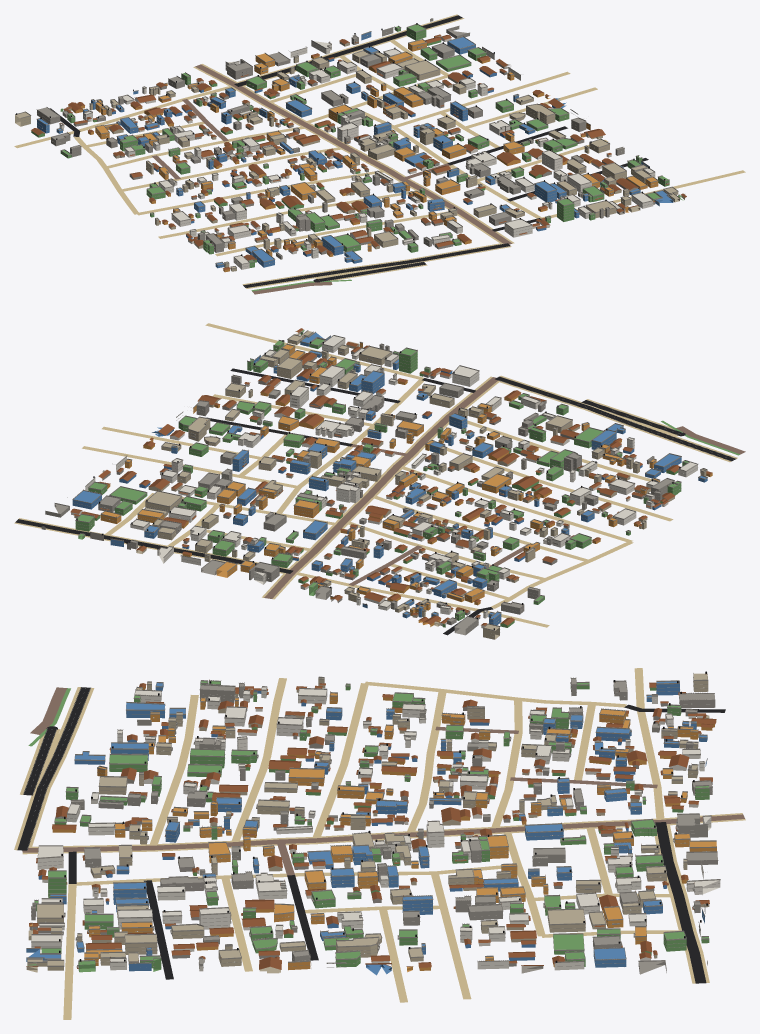
File: zone_t-5_0.glb
3 renders of one model, top to bottom at view 1: azimuth 30°, elevation 25°; view 2: azimuth 150°, elevation 25°; view 3: azimuth 270°, elevation 25°, orthographic. The views are drawn at different scales.
Parts seen in each view (by area): view 1: parapet_t-5_0, bld_peinture_ecaillee_t-5_0-col, bld_peinture_blanc_t-5_0-col, toit_tole_t-5_0, bld_peinture_vert_t-5_0-col, route_residential_terre_t-5_0, bld_peinture_bleu_t-5_0-col, bld_beton_t-5_0-col, bld_peinture_ocre_t-5_0-col, accotement_t-5_0, bandeau_t-5_0, route_tertiary_paves_t-5_0 (+5 smaller); view 2: parapet_t-5_0, toit_tole_t-5_0, bld_peinture_ecaillee_t-5_0-col, bld_peinture_blanc_t-5_0-col, bld_peinture_vert_t-5_0-col, route_residential_terre_t-5_0, bld_peinture_bleu_t-5_0-col, bld_beton_t-5_0-col, bld_peinture_ocre_t-5_0-col, accotement_t-5_0, bandeau_t-5_0, route_tertiary_paves_t-5_0 (+5 smaller); view 3: parapet_t-5_0, route_residential_terre_t-5_0, bld_peinture_blanc_t-5_0-col, toit_tole_t-5_0, bld_peinture_ecaillee_t-5_0-col, bld_peinture_vert_t-5_0-col, bld_peinture_bleu_t-5_0-col, bld_peinture_ocre_t-5_0-col, bld_beton_t-5_0-col, bandeau_t-5_0, accotement_t-5_0, route_secondary_bitume_t-5_0 (+5 smaller).
Boxes of the visible parts, <box> form: parapet_t-5_0: <box>15,24,680,268</box>; bld_peinture_ecaillee_t-5_0-col: <box>15,35,685,271</box>; bld_peinture_blanc_t-5_0-col: <box>59,37,655,269</box>; toit_tole_t-5_0: <box>31,34,686,269</box>; bld_peinture_vert_t-5_0-col: <box>31,24,683,267</box>; route_residential_terre_t-5_0: <box>14,39,745,256</box>; bld_peinture_bleu_t-5_0-col: <box>37,32,673,268</box>; bld_beton_t-5_0-col: <box>37,18,655,259</box>; bld_peinture_ocre_t-5_0-col: <box>68,40,658,272</box>; accotement_t-5_0: <box>193,14,514,288</box>; bandeau_t-5_0: <box>17,30,663,267</box>; route_tertiary_paves_t-5_0: <box>195,64,512,244</box>; parapet_t-5_0: <box>45,330,707,630</box>; toit_tole_t-5_0: <box>70,328,712,625</box>; bld_peinture_ecaillee_t-5_0-col: <box>74,330,707,639</box>; bld_peinture_blanc_t-5_0-col: <box>71,336,697,628</box>; bld_peinture_vert_t-5_0-col: <box>75,330,688,627</box>; route_residential_terre_t-5_0: <box>82,323,673,627</box>; bld_peinture_bleu_t-5_0-col: <box>72,332,707,625</box>; bld_beton_t-5_0-col: <box>41,344,674,635</box>; bld_peinture_ocre_t-5_0-col: <box>100,343,712,626</box>; accotement_t-5_0: <box>14,375,737,599</box>; bandeau_t-5_0: <box>74,342,705,636</box>; route_tertiary_paves_t-5_0: <box>264,377,497,598</box>; parapet_t-5_0: <box>26,672,720,969</box>; route_residential_terre_t-5_0: <box>63,668,681,1019</box>; bld_peinture_blanc_t-5_0-col: <box>31,687,720,970</box>; toit_tole_t-5_0: <box>26,682,716,969</box>; bld_peinture_ecaillee_t-5_0-col: <box>26,673,709,973</box>; bld_peinture_vert_t-5_0-col: <box>27,681,709,972</box>; bld_peinture_bleu_t-5_0-col: <box>26,681,707,975</box>; bld_peinture_ocre_t-5_0-col: <box>29,686,716,972</box>; bld_beton_t-5_0-col: <box>29,678,717,974</box>; bandeau_t-5_0: <box>31,677,719,968</box>; accotement_t-5_0: <box>14,687,745,983</box>; route_secondary_bitume_t-5_0: <box>17,687,90,850</box>.
Bounding box in the file's own units: 615 × 20 × 541.
